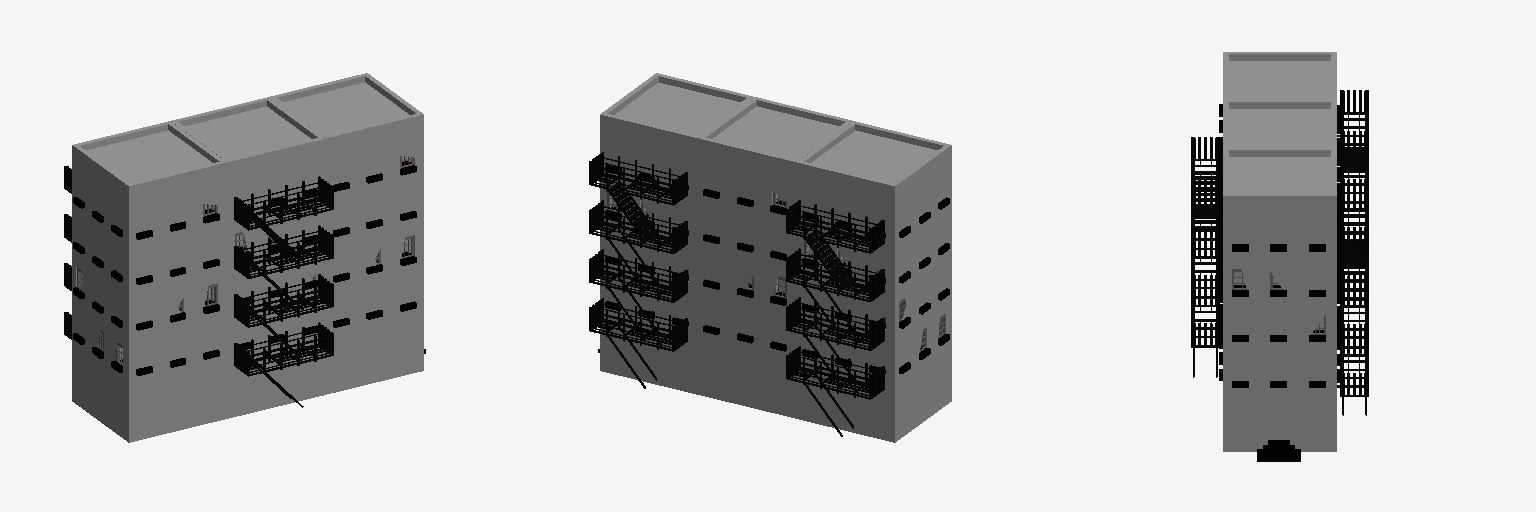
The model's file is building_right_back.obj.
3 views of the same model, side by side, from view 1: azimuth 30°, elevation 25°; view 2: azimuth 150°, elevation 25°; view 3: azimuth 270°, elevation 25° (orthographic).
Visible parts, largest first — view 1: tri_baraky_vpravo_Cube.011_Cube.015; view 2: tri_baraky_vpravo_Cube.011_Cube.015; view 3: tri_baraky_vpravo_Cube.011_Cube.015.
Boxes of the visible parts, <box> form: tri_baraky_vpravo_Cube.011_Cube.015: <box>64,73,425,442</box>; tri_baraky_vpravo_Cube.011_Cube.015: <box>589,73,951,442</box>; tri_baraky_vpravo_Cube.011_Cube.015: <box>1191,52,1368,461</box>.
Bounding box in the file's own units: 18.13 × 13.96 × 8.76.